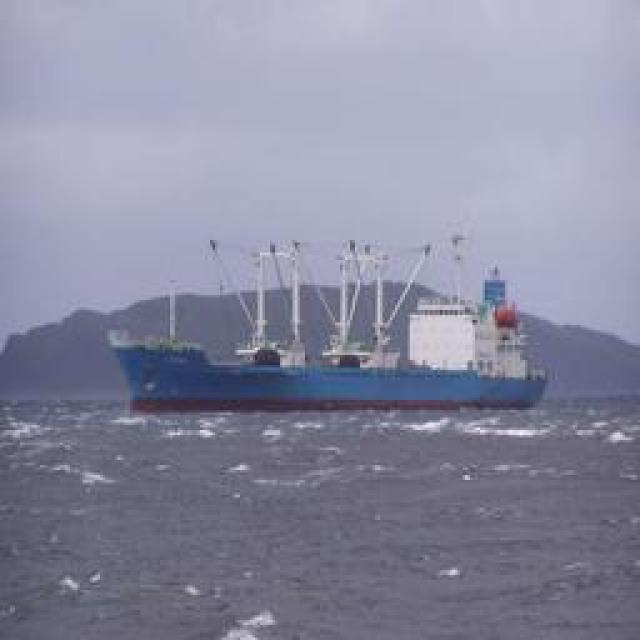CIV_Ship: (104, 224, 554, 422)
